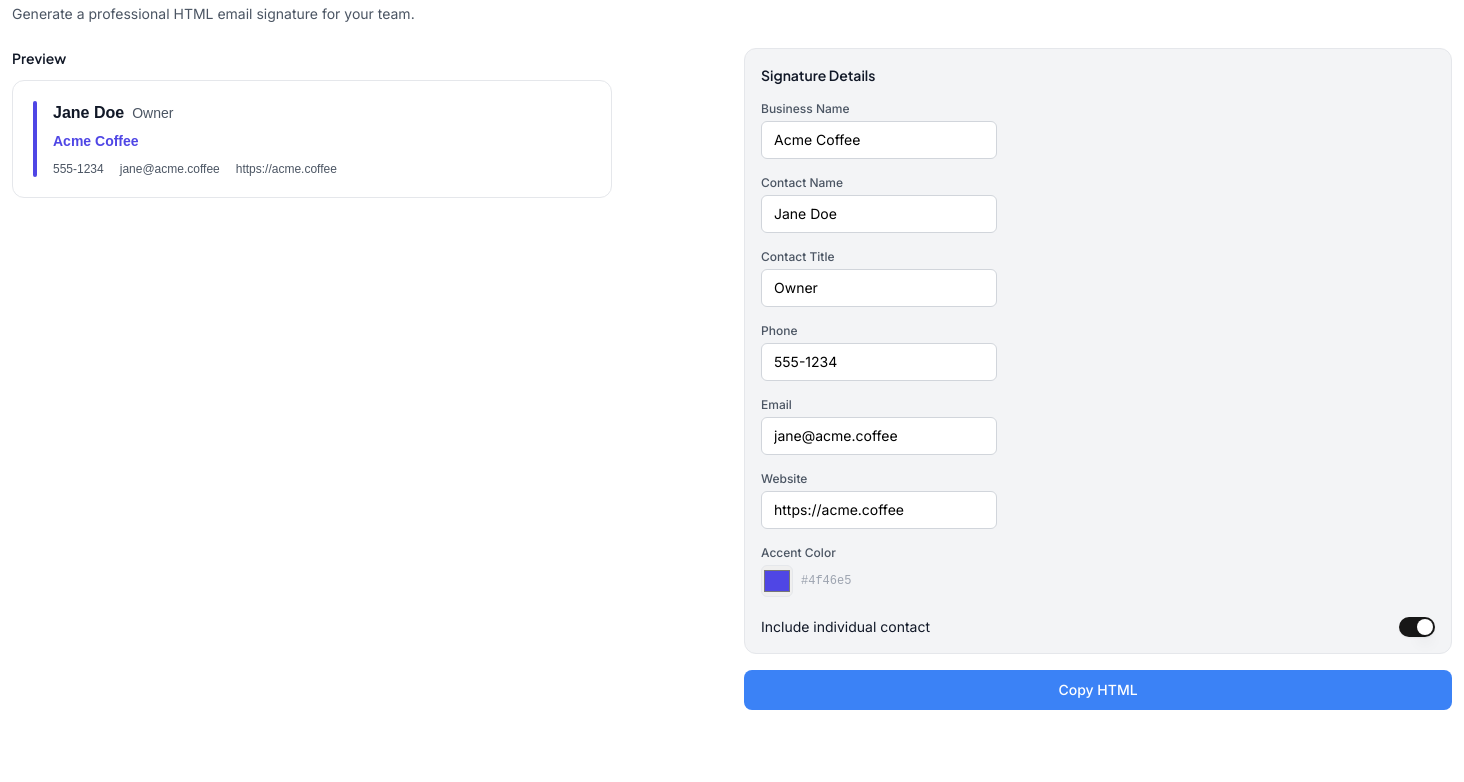
Test: EmailSignature › shows generated HTML and copy button after generation
Click the button with aria-label "Generate email signature HTML".
click(1098, 690)  # box [744,670,1452,710]
(page scrolled)
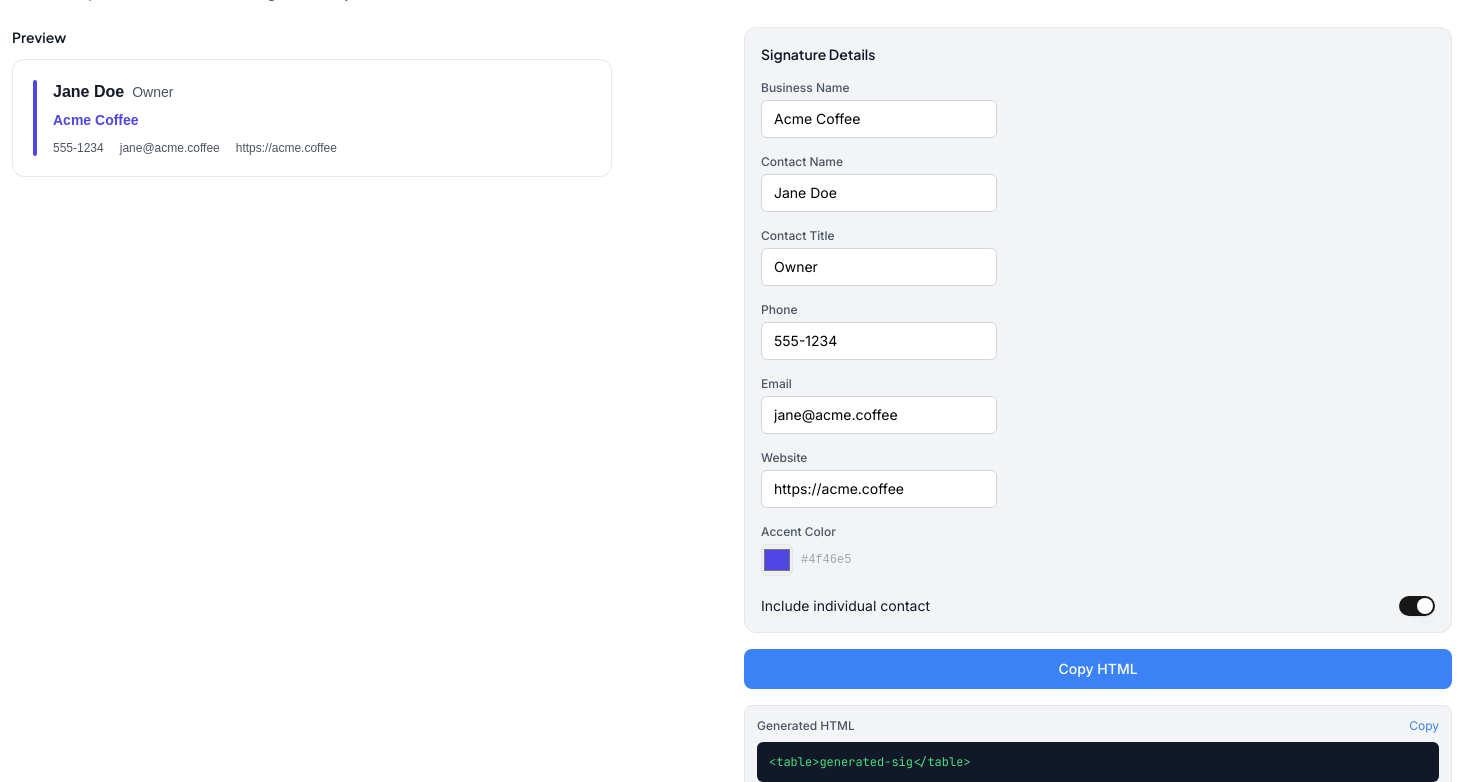
Now the text "Generated HTML" is shown, box [757,718,855,734]
Now the text "<table>generated-sig</table>" is shown, box [757,742,1439,781]
